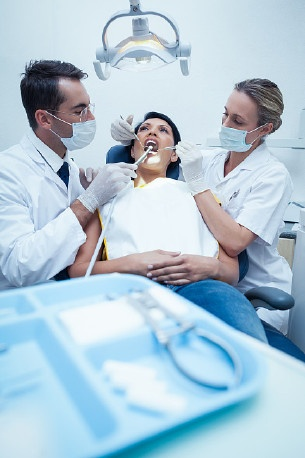Mask: (216, 102, 265, 151)
